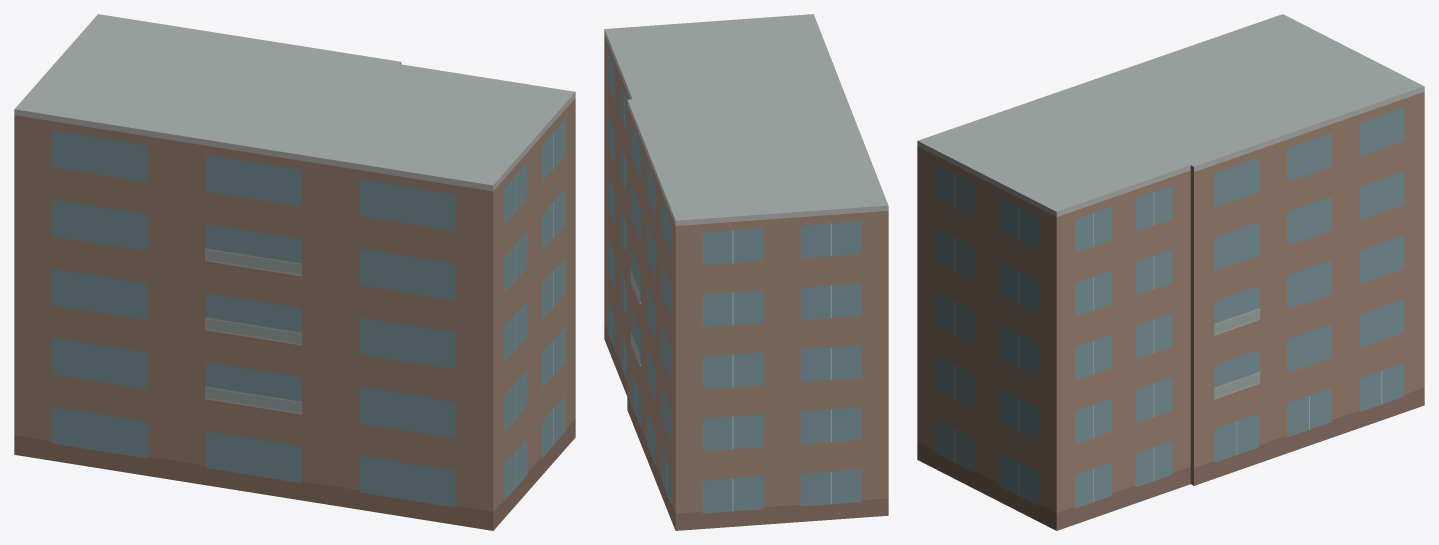
Rendered from survey-upis-32695176.glb.
3 views of the same model, side by side, from view 1: azimuth 30°, elevation 25°; view 2: azimuth 150°, elevation 25°; view 3: azimuth 270°, elevation 25° (orthographic). The views are drawn at different scales.
Visible parts, largest first — view 1: survey-upis-32695176.tmp; view 2: survey-upis-32695176.tmp; view 3: survey-upis-32695176.tmp.
Part boxes in pixels (<box>): survey-upis-32695176.tmp: <box>14,14,575,530</box>; survey-upis-32695176.tmp: <box>604,14,888,530</box>; survey-upis-32695176.tmp: <box>917,14,1424,530</box>.
Size of the model in its own units: 19.16 by 14.4 by 20.75.
